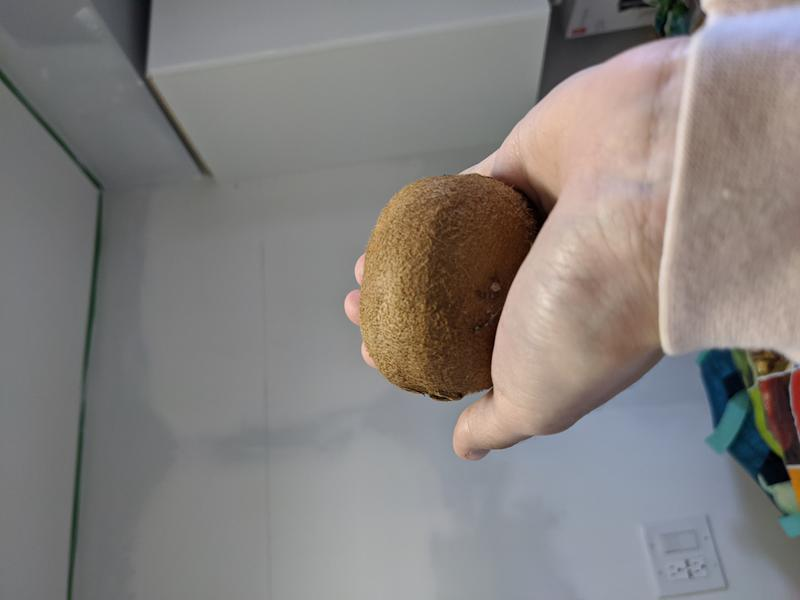kiwi: (358, 173, 534, 399)
